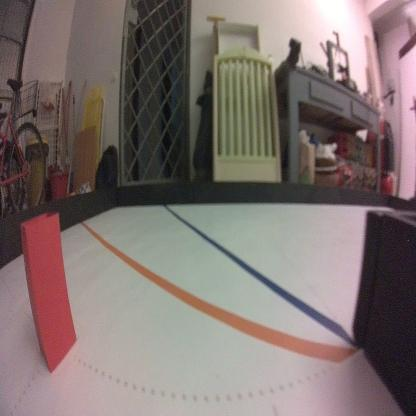red: (18, 211, 77, 374)
